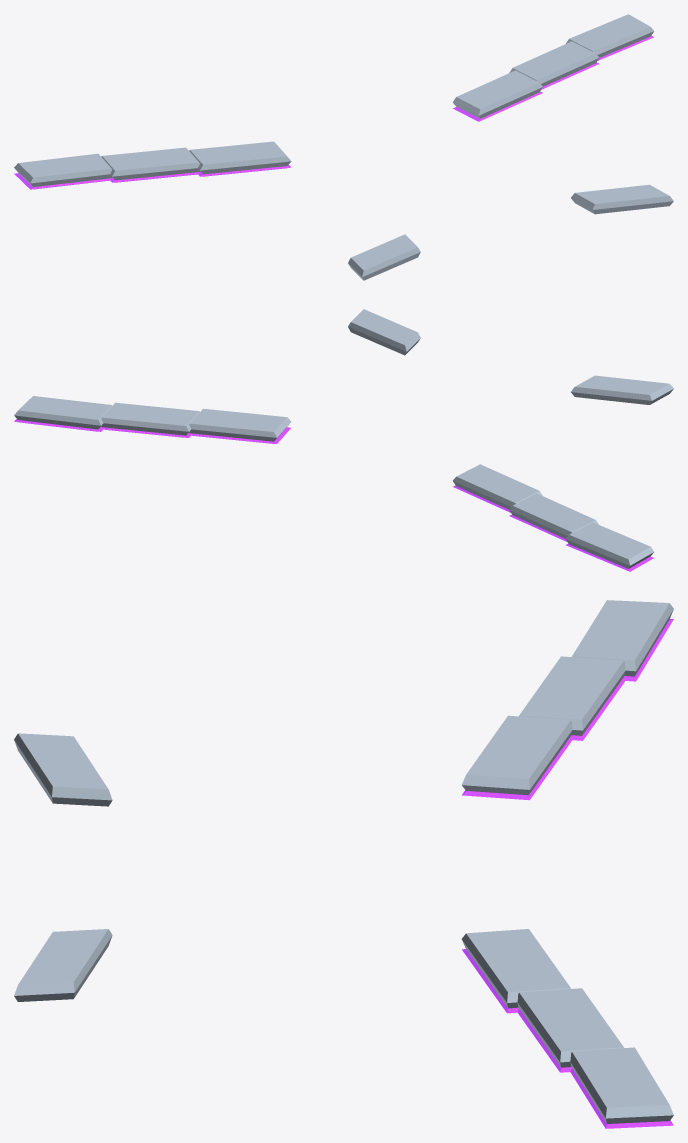
Rendered from bf_elite_hull_plating.glb.
3 renders of one model, top to bottom at view 1: azimuth 30°, elevation 25°; view 2: azimuth 150°, elevation 25°; view 3: azimuth 270°, elevation 25°, orthographic. The views are drawn at different scales.
Visible parts, largest first — view 1: ELITE // WING SCALES; view 2: ELITE // WING SCALES; view 3: ELITE // WING SCALES.
Boxes of the visible parts, x1=… form: ELITE // WING SCALES: x1=14, y1=14, x2=673, y2=280; ELITE // WING SCALES: x1=14, y1=309, x2=673, y2=571; ELITE // WING SCALES: x1=14, y1=600, x2=673, y2=1128.
Bounding box in the file's own units: 2.72 × 0.0553 × 1.48.
